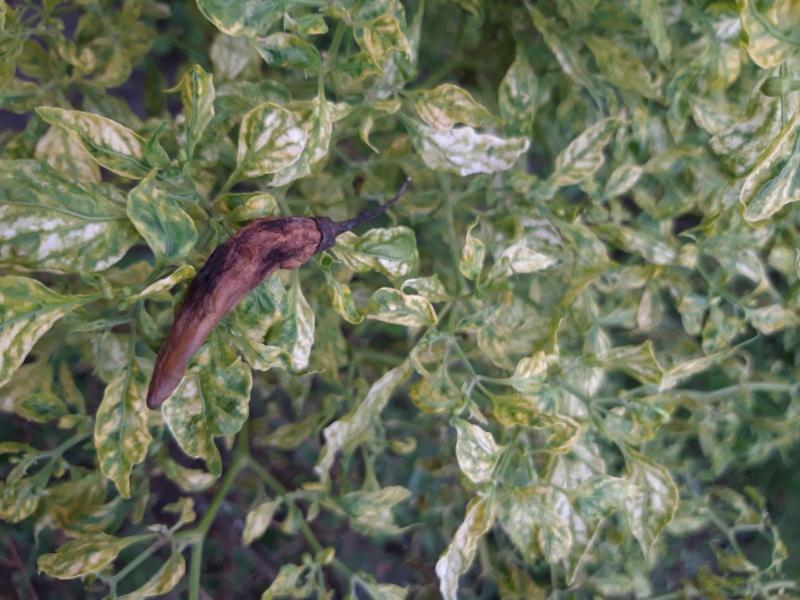antraknosa: (143, 213, 323, 412)
